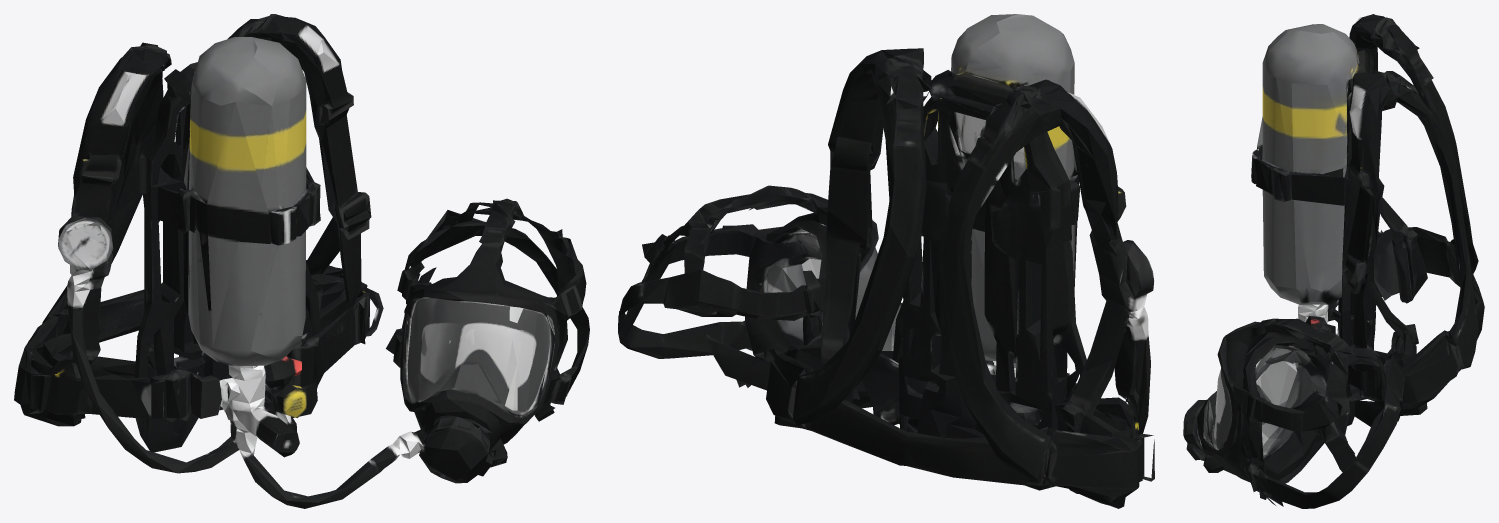
File: insp_caba.glb
3 views of the same model, side by side, from view 1: azimuth 30°, elevation 25°; view 2: azimuth 150°, elevation 25°; view 3: azimuth 270°, elevation 25° (orthographic). The views are drawn at different scales.
Parts seen in each view (by area): view 1: output_unwrapped; view 2: output_unwrapped; view 3: output_unwrapped.
Part boxes in pixels (<box>): output_unwrapped: <box>14,14,589,508</box>; output_unwrapped: <box>618,14,1154,508</box>; output_unwrapped: <box>1183,14,1484,508</box>.
Bounding box in the file's own units: 1.89 × 1.5 × 1.1.
Materials: 1 (1 with a texture image).
